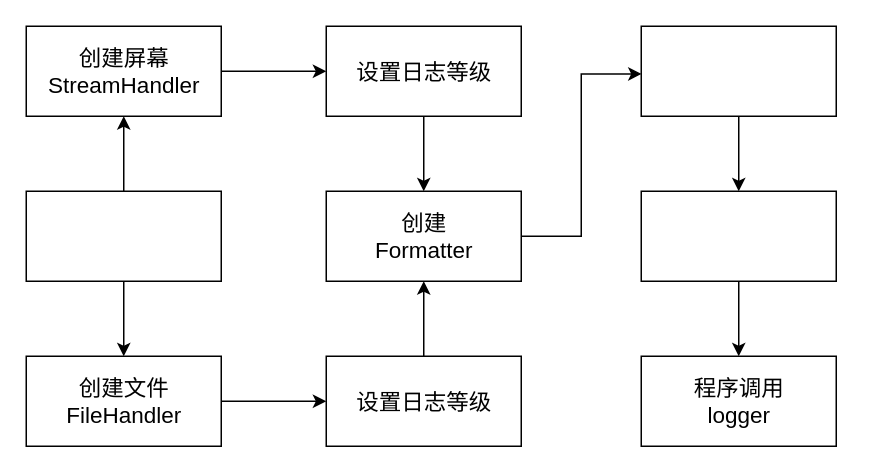
This 870x473 diagram has some shape labels left out. The shapes that lost their labels are listed below. From the top down, each one's centre as x and y in pixels, then its label:
At (738,70): "用Formatter渲染 所有的Handler".
At (123,235): "创建一个logger 并设置默认等级".
At (738,235): "将所有的Handler 加入logger内".
